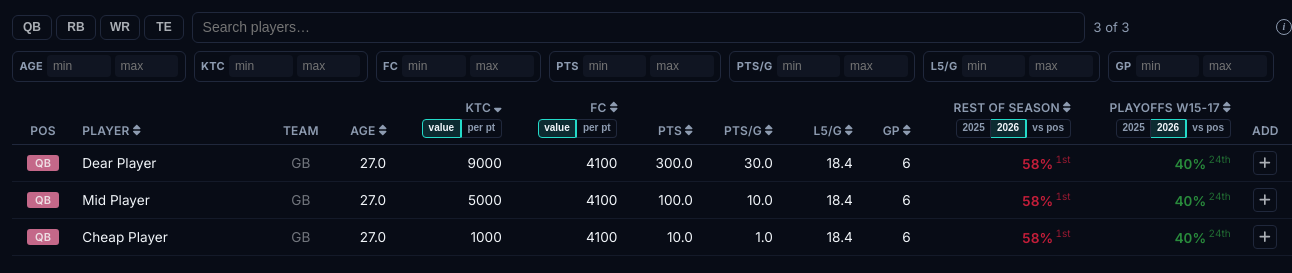
Test: the rendered table › keeps the order when the value pill changes what the column shows
expect the text "Dear Player" is shown: met, box x1=74 y1=144 x2=270 y2=181
Click the 1st button "per pt".
click(481, 128)  # box x1=461 y1=118 x2=502 y2=138
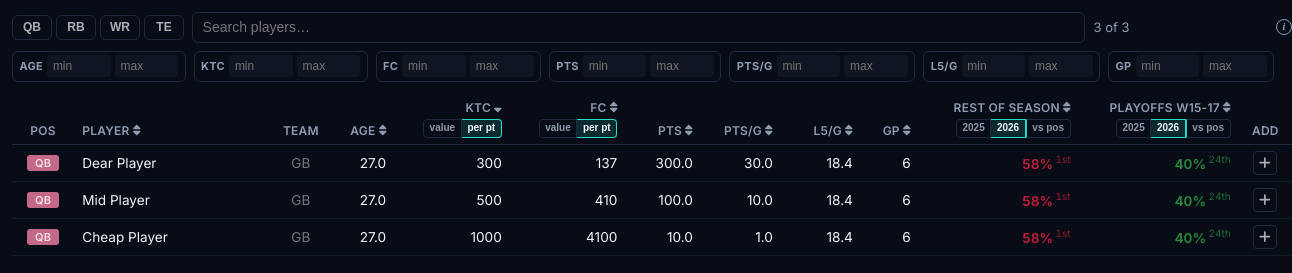
expect the text "300" is shown: met, box x1=394 y1=144 x2=510 y2=181
expect the text "9000" is gone: met
